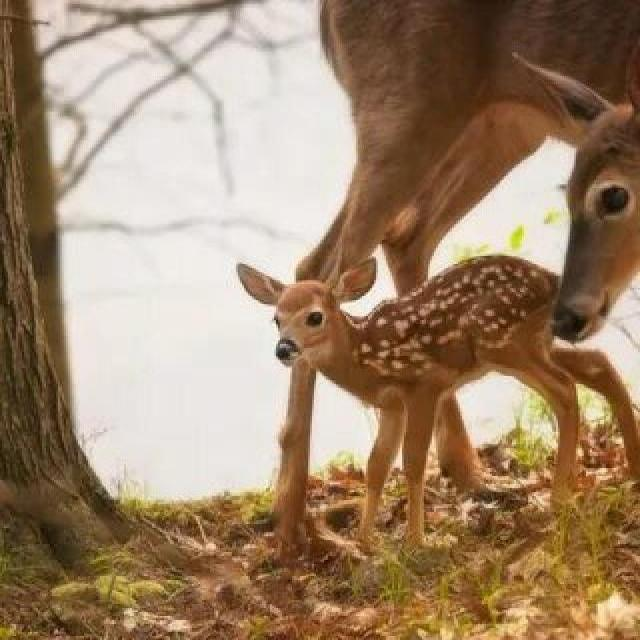deer: (282, 0, 640, 372), (257, 215, 640, 561)
